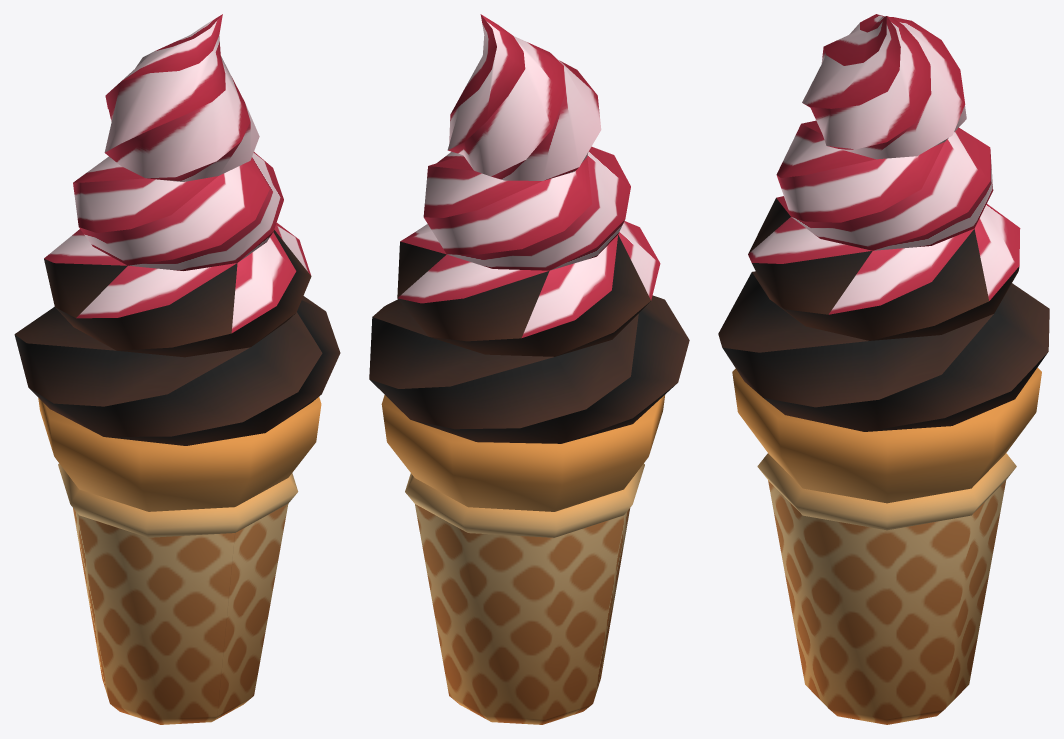
Rendered from m_Softserve09.fbx.
3 renders of one model, left to right at view 1: azimuth 30°, elevation 25°; view 2: azimuth 150°, elevation 25°; view 3: azimuth 270°, elevation 25°, orthographic. The views are drawn at different scales.
Parts seen in each view (by area): view 1: m_Softserve09; view 2: m_Softserve09; view 3: m_Softserve09.
Part boxes in pixels (x1,y1,x2,y2): m_Softserve09: [14, 14, 340, 724]; m_Softserve09: [369, 14, 689, 724]; m_Softserve09: [718, 14, 1049, 724].
Bounding box in the file's own units: 11.45 × 26 × 11.13.
